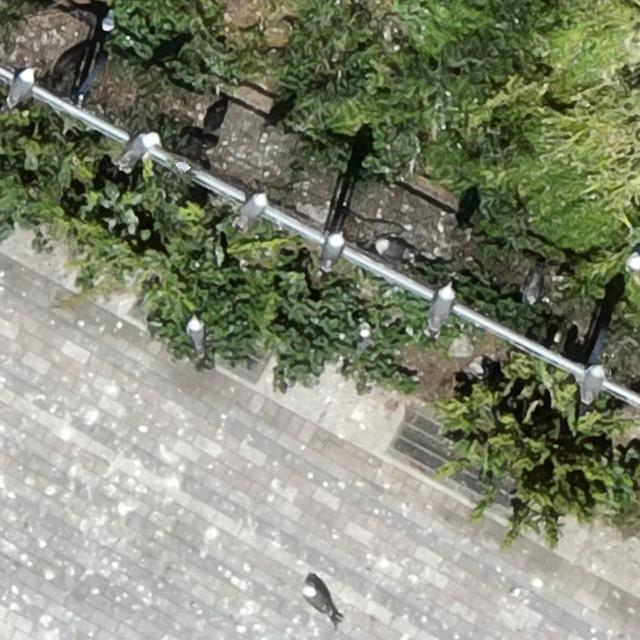umineko: (374, 236, 420, 263), (580, 361, 606, 404), (429, 285, 453, 329), (236, 192, 265, 224), (119, 134, 152, 162), (73, 8, 109, 30), (11, 69, 33, 104), (324, 232, 343, 267), (304, 586, 328, 612), (187, 320, 204, 352), (522, 276, 539, 306)
